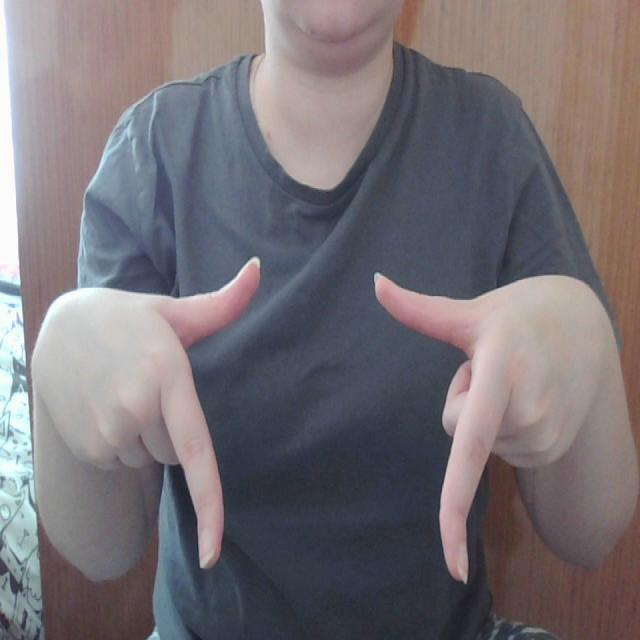Nerede: (148, 248, 525, 592)
